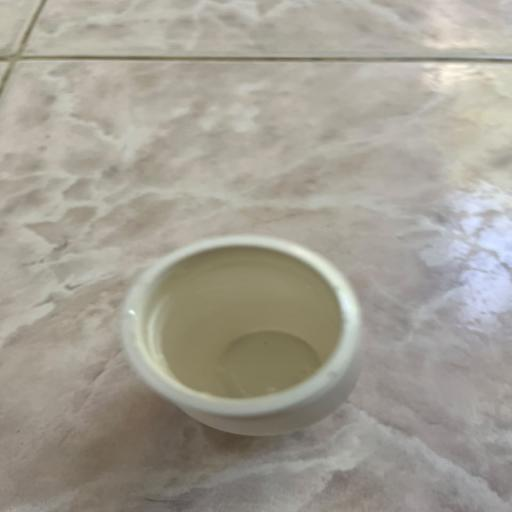HDPE: (59, 183, 461, 492)
